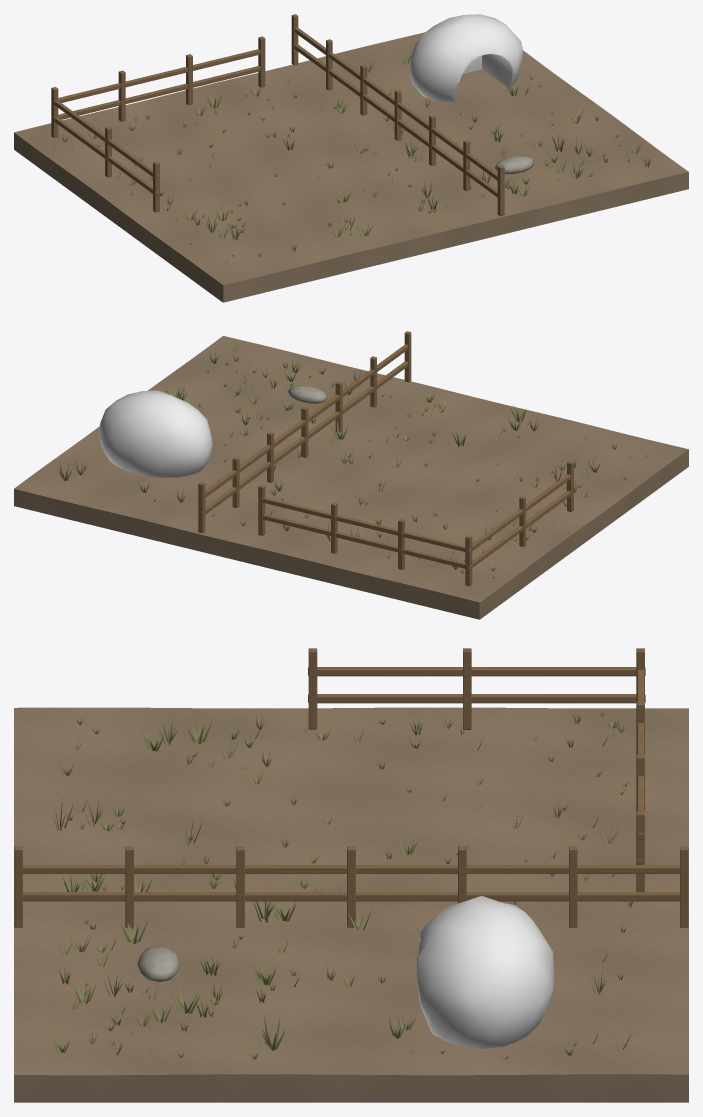
The model's file is mdl_ra5_entorno_terrestre.fbx.
The picture shows the model from 3 angles, top to bottom: view 1: azimuth 30°, elevation 25°; view 2: azimuth 150°, elevation 25°; view 3: azimuth 270°, elevation 25°; orthographic projection. The views are drawn at different scales.
Visible parts, largest first — view 1: SM_Terreno_Terrestre, SM_Cueva_Zorro, SM_CercaSeparacion_Travesano_01, SM_CercaSeparacion_Travesano_00, SM_Corral_Travesano.001, SM_Corral_Travesano, SM_Corral_Lateral, SM_Corral_Lateral.001, SM_Roca_Lagarto; view 2: SM_Terreno_Terrestre, SM_Cueva_Zorro, SM_CercaSeparacion_Travesano_01, SM_CercaSeparacion_Travesano_00, SM_Corral_Travesano.001, SM_Corral_Travesano, SM_Corral_Lateral.001, SM_Corral_Lateral, SM_Roca_Lagarto; view 3: SM_Terreno_Terrestre, SM_Cueva_Zorro, SM_CercaSeparacion_Travesano_00, SM_CercaSeparacion_Travesano_01, SM_Corral_Lateral, SM_Corral_Lateral.001, SM_Roca_Lagarto, SM_Corral_LateralPoste_0, SM_Corral_Travesano.001, SM_CercaSeparacion_Poste_00, SM_CercaSeparacion_Poste_02, SM_CercaSeparacion_Poste_05 (+4 smaller).
Boxes of the visible parts, x1=… form: SM_Terreno_Terrestre: x1=14, y1=32, x2=688, y2=302; SM_Cueva_Zorro: x1=409, y1=14, x2=523, y2=102; SM_CercaSeparacion_Travesano_01: x1=294, y1=27, x2=497, y2=180; SM_CercaSeparacion_Travesano_00: x1=294, y1=44, x2=497, y2=197; SM_Corral_Travesano.001: x1=51, y1=49, x2=260, y2=104; SM_Corral_Travesano: x1=51, y1=66, x2=260, y2=121; SM_Corral_Lateral: x1=54, y1=117, x2=159, y2=196; SM_Corral_Lateral.001: x1=54, y1=100, x2=159, y2=179; SM_Roca_Lagarto: x1=495, y1=156, x2=534, y2=174; SM_Terreno_Terrestre: x1=14, y1=336, x2=688, y2=619; SM_Cueva_Zorro: x1=98, y1=390, x2=212, y2=477; SM_CercaSeparacion_Travesano_01: x1=205, y1=344, x2=408, y2=497; SM_CercaSeparacion_Travesano_00: x1=205, y1=361, x2=408, y2=514; SM_Corral_Travesano.001: x1=263, y1=497, x2=472, y2=552; SM_Corral_Travesano: x1=263, y1=514, x2=472, y2=569; SM_Corral_Lateral.001: x1=465, y1=474, x2=570, y2=553; SM_Corral_Lateral: x1=465, y1=491, x2=570, y2=569; SM_Roca_Lagarto: x1=287, y1=385, x2=327, y2=403; SM_Terreno_Terrestre: x1=14, y1=707, x2=688, y2=1102; SM_Cueva_Zorro: x1=416, y1=896, x2=554, y2=1048; SM_CercaSeparacion_Travesano_00: x1=23, y1=892, x2=679, y2=901; SM_CercaSeparacion_Travesano_01: x1=23, y1=865, x2=679, y2=873; SM_Corral_Lateral: x1=308, y1=694, x2=645, y2=703; SM_Corral_Lateral.001: x1=308, y1=667, x2=645, y2=676; SM_Roca_Lagarto: x1=137, y1=945, x2=180, y2=982; SM_Corral_LateralPoste_0: x1=308, y1=648, x2=317, y2=729; SM_Corral_Travesano.001: x1=637, y1=670, x2=643, y2=839; SM_CercaSeparacion_Poste_00: x1=14, y1=846, x2=22, y2=927; SM_CercaSeparacion_Poste_02: x1=236, y1=846, x2=244, y2=927; SM_CercaSeparacion_Poste_05: x1=569, y1=846, x2=577, y2=927.
Bounding box in the file's own units: 9 × 1.53 × 7.
